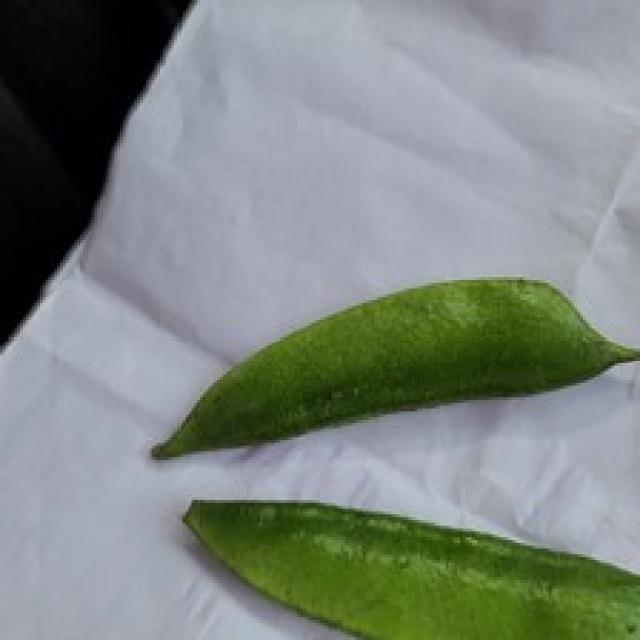Bean: (149, 271, 637, 460), (180, 494, 637, 637)
